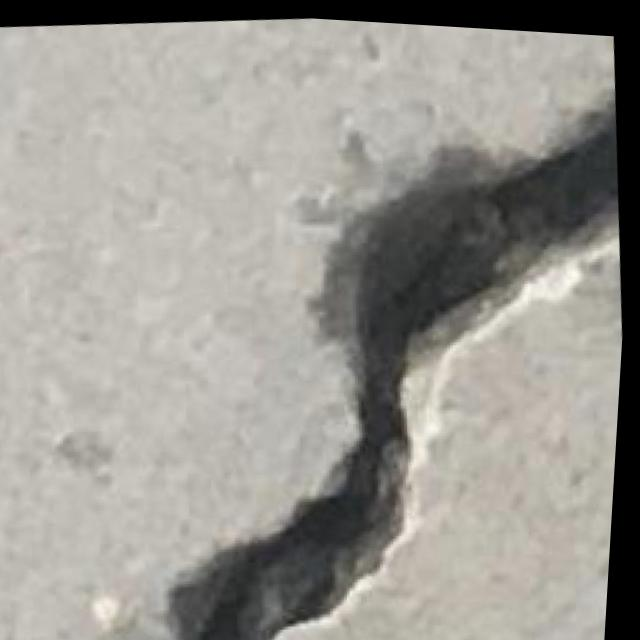Crack: (67, 51, 638, 640)
